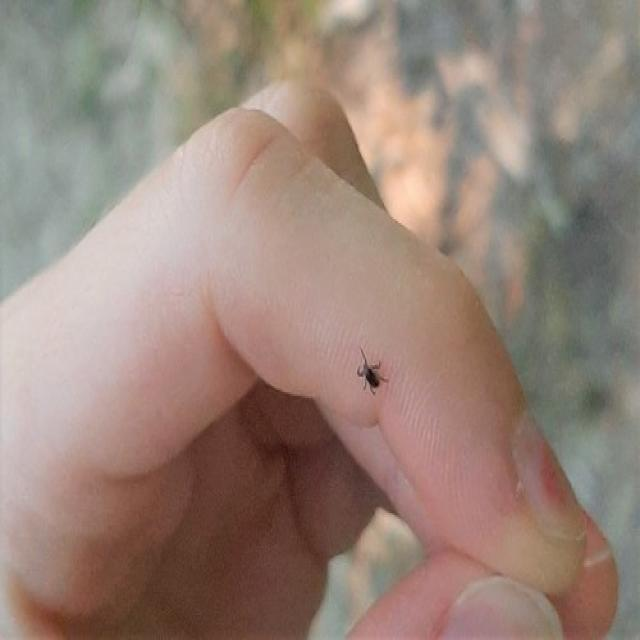Ixodes Ricinus-M: (356, 346, 393, 411)
